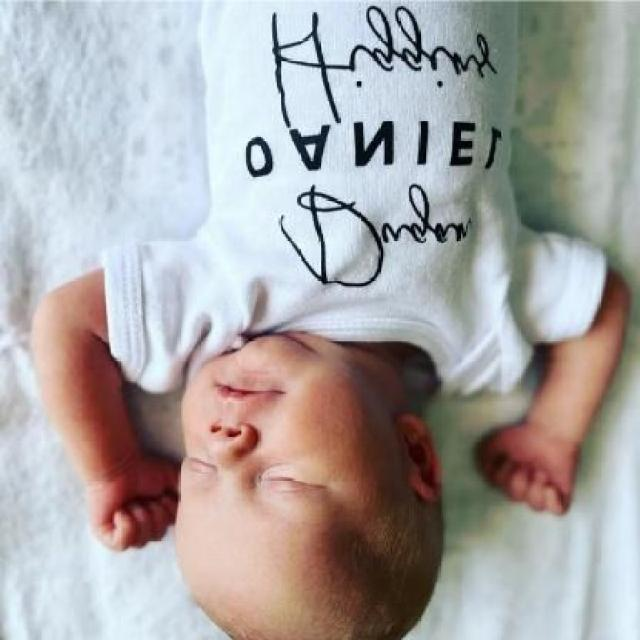baby: (30, 1, 623, 640)
